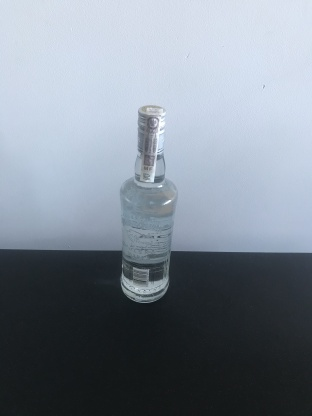nakretka: (134, 97, 169, 155), (134, 102, 168, 156)
